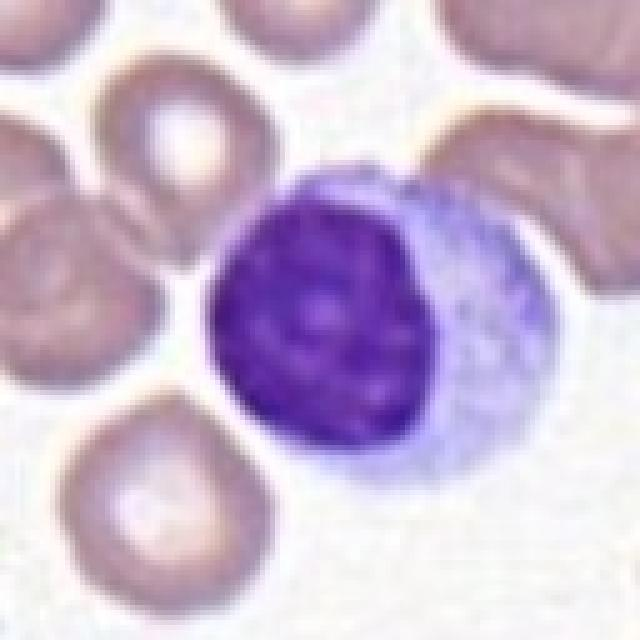lympho: (198, 155, 568, 493)
